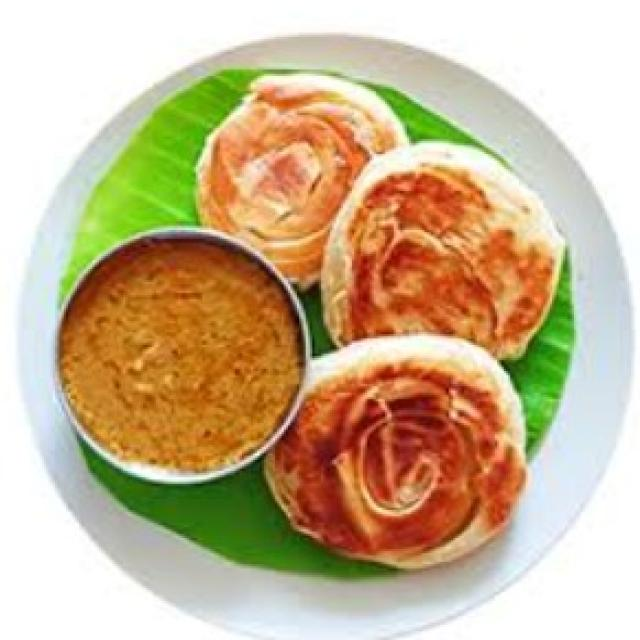CURRY: (55, 239, 308, 481)
PAROTTA: (192, 69, 564, 577)
